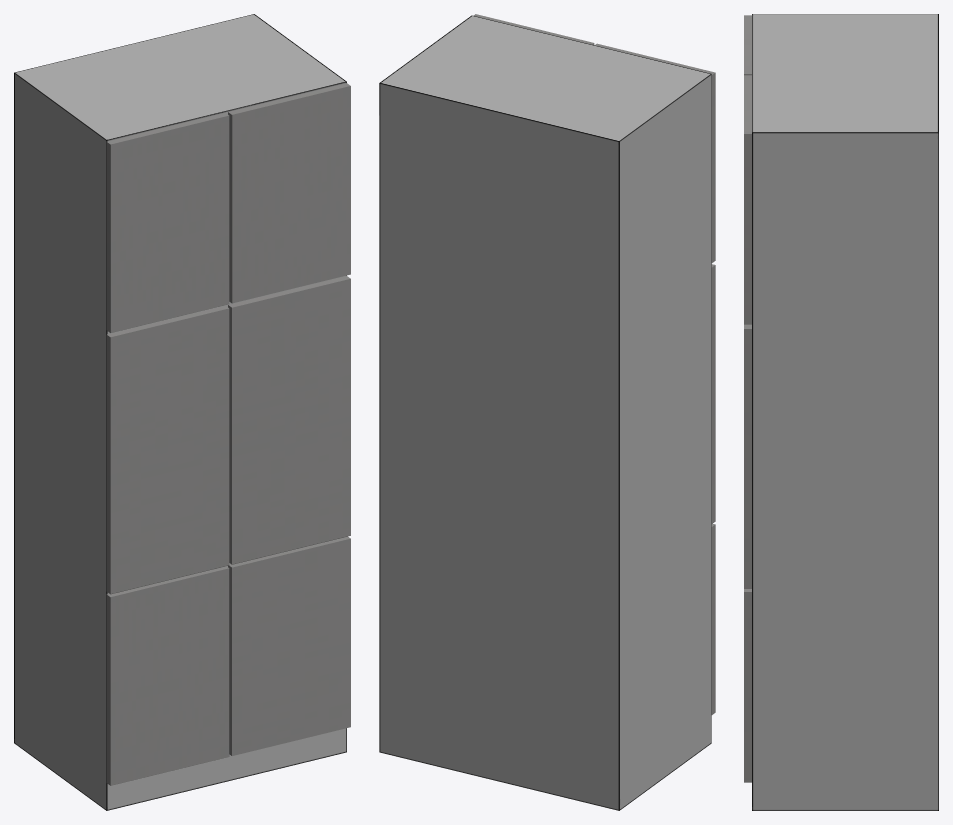
Rendered from storage_90.dae.
3 views of the same model, side by side, from view 1: azimuth 30°, elevation 25°; view 2: azimuth 150°, elevation 25°; view 3: azimuth 270°, elevation 25° (orthographic).
Visible parts, largest first — view 1: Skrin_90 v2; view 2: Skrin_90 v2; view 3: Skrin_90 v2.
Boxes of the visible parts, x1=… form: Skrin_90 v2: x1=14, y1=14, x2=350, y2=810; Skrin_90 v2: x1=379, y1=14, x2=715, y2=810; Skrin_90 v2: x1=744, y1=14, x2=938, y2=810.
Bounding box in the file's own units: 0.9 × 0.625 × 2.4.
1 material, 1 textured.
